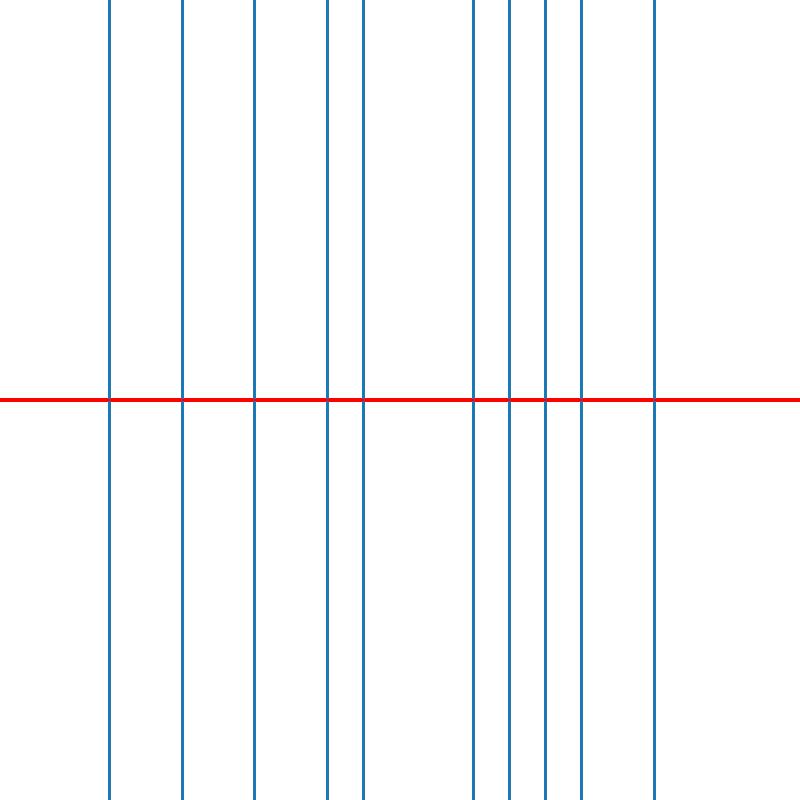root: (250, 396, 258, 404), (650, 396, 658, 404), (541, 396, 549, 404), (178, 396, 185, 404), (105, 396, 112, 404), (505, 396, 512, 404), (469, 396, 476, 404), (578, 396, 585, 404), (360, 396, 367, 404), (323, 396, 330, 404)
